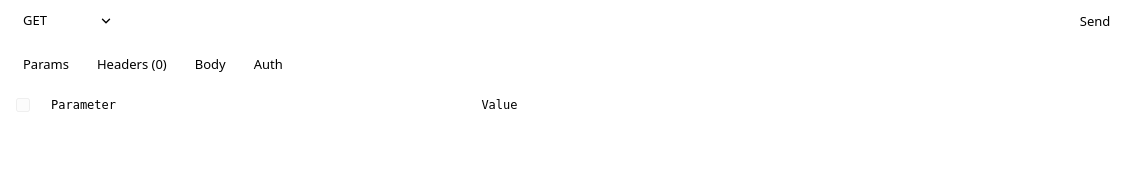
Test: RequestPane › counts enabled headers in the tab label
The width and height of the screenshot is (1148, 185).
Step 1. Click the tab "Headers (0)" → (132, 65), box [85, 49, 179, 81]
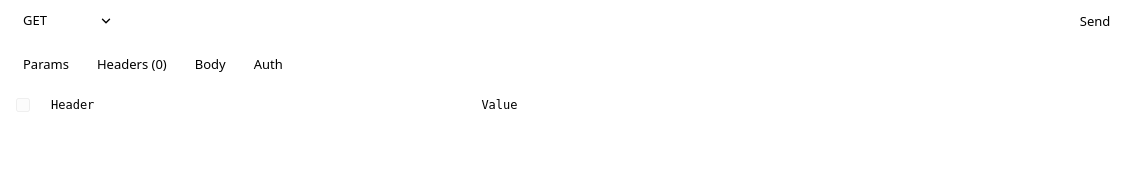
Step 2. Type "A" into the field named "Key 1" → (254, 105), box [43, 93, 465, 117]
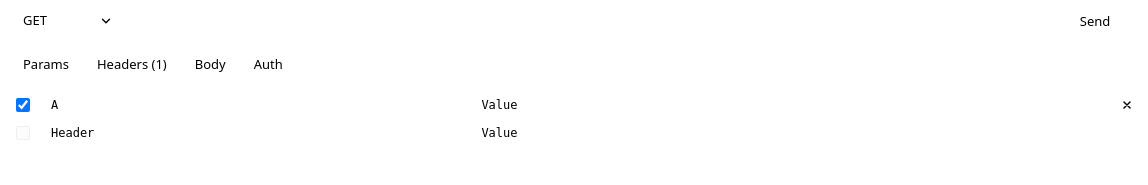
Step 3. Type "B" into the field named "Key 2" → (254, 133), box [43, 121, 465, 145]
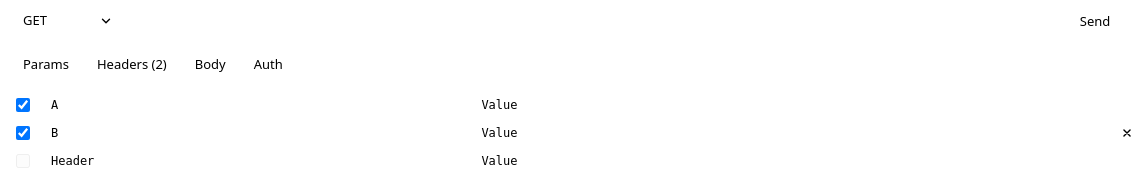
Expected: the tab "Headers (2)" is shown, [85, 49, 179, 81]
